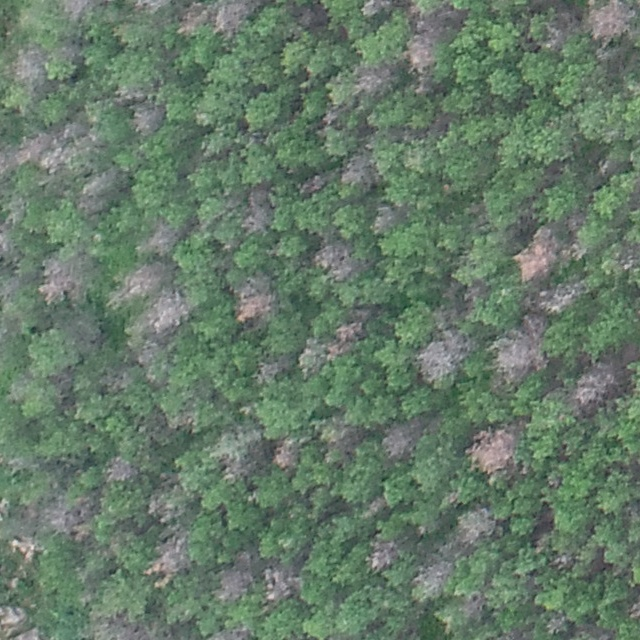unhealthy: (490, 321, 545, 389), (412, 330, 472, 385), (36, 251, 89, 304), (36, 494, 96, 540), (571, 358, 620, 414), (213, 428, 263, 482), (40, 123, 95, 172), (467, 424, 517, 476), (513, 226, 558, 281), (232, 272, 275, 327), (116, 261, 172, 303), (147, 530, 189, 585), (143, 291, 193, 333), (77, 169, 122, 215), (87, 614, 161, 640), (319, 416, 364, 458), (313, 237, 358, 279), (534, 279, 586, 315), (454, 506, 498, 548), (587, 0, 633, 40), (410, 557, 453, 598), (63, 311, 104, 353), (216, 560, 255, 603), (327, 316, 368, 356), (542, 6, 577, 52), (352, 61, 395, 98), (209, 1, 254, 35), (262, 564, 300, 604), (9, 43, 46, 84), (143, 219, 181, 256), (380, 420, 415, 460), (405, 32, 438, 74), (146, 483, 182, 521), (339, 153, 379, 187), (242, 190, 273, 233), (177, 0, 211, 36), (15, 130, 49, 165), (254, 354, 293, 384), (366, 537, 398, 573), (297, 336, 326, 374), (131, 104, 165, 135), (270, 437, 301, 471), (102, 455, 137, 484), (101, 364, 134, 394), (0, 603, 28, 637), (371, 202, 400, 234), (459, 590, 488, 621), (10, 534, 42, 561), (298, 171, 332, 196), (56, 0, 96, 20), (117, 82, 151, 105), (208, 624, 254, 640), (0, 140, 18, 179), (0, 216, 15, 259), (57, 41, 83, 65), (360, 0, 394, 18), (0, 273, 20, 302), (365, 494, 387, 517), (544, 613, 567, 634), (128, 0, 168, 12), (619, 342, 639, 362), (13, 627, 43, 640), (628, 595, 640, 620)
